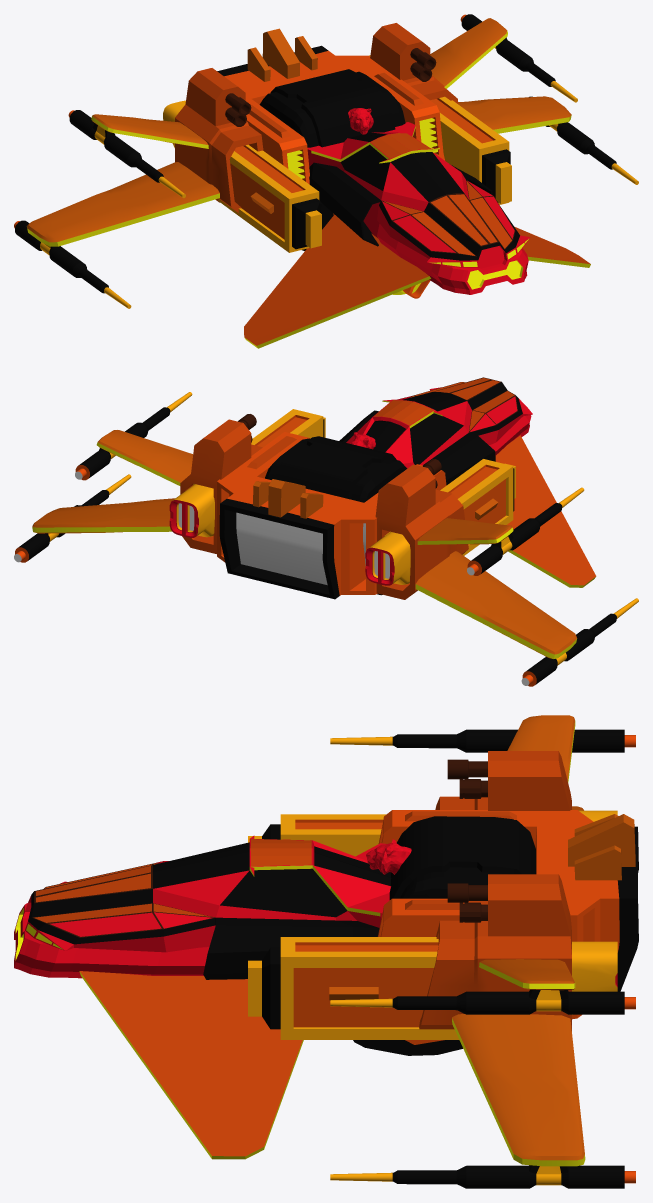
Rendered from Kava.fbx.
3 views of the same model, one above another, from view 1: azimuth 30°, elevation 25°; view 2: azimuth 150°, elevation 25°; view 3: azimuth 270°, elevation 25° (orthographic). The views are drawn at different scales.
Visible parts, largest first — view 1: pasted__polySurface74; view 2: pasted__polySurface74; view 3: pasted__polySurface74.
Part boxes in pixels (box(x1,y1,x2,y2)): pasted__polySurface74: box(14, 14, 638, 348); pasted__polySurface74: box(14, 377, 638, 686); pasted__polySurface74: box(14, 715, 638, 1188).
Bounding box in the file's own units: 107 × 32.73 × 80.23.
